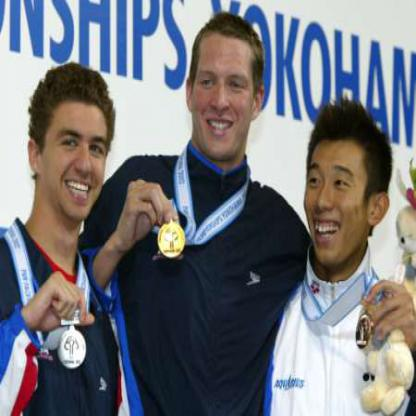face: (41, 75, 116, 223), (305, 113, 376, 266), (190, 19, 258, 162)
